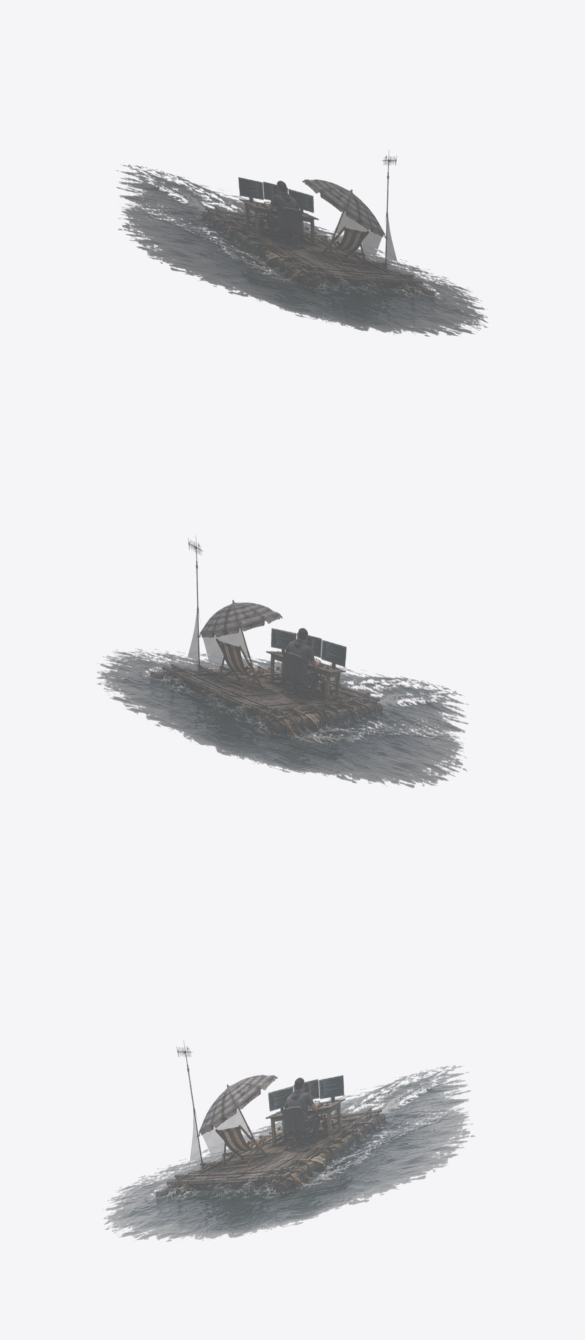
File: WhatWeDo.glb
3 renders of one model, top to bottom at view 1: azimuth 30°, elevation 25°; view 2: azimuth 210°, elevation 25°; view 3: azimuth 270°, elevation 25°, orthographic.
Visible parts, largest first — view 1: Boat; view 2: Boat; view 3: Boat.
Part boxes in pixels (left/top/right/bottom): Boat: left=117, top=155, right=487, bottom=336; Boat: left=97, top=540, right=467, bottom=787; Boat: left=104, top=1046, right=474, bottom=1241.
Size of the model in its own units: 64.37 by 59.4 by 108.
Materials: 1 (1 with a texture image).
